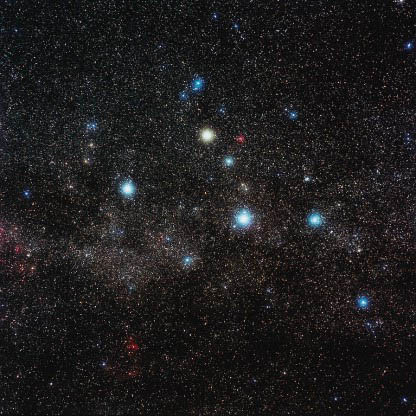Cassiopeia: (193, 118, 240, 173), (228, 200, 261, 241), (303, 201, 333, 241), (116, 169, 142, 207), (350, 294, 379, 317)
